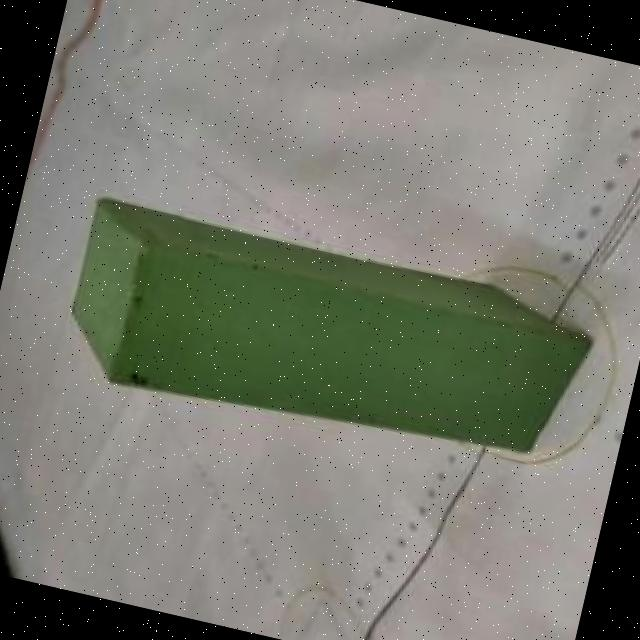greenbox: (52, 190, 596, 484)
